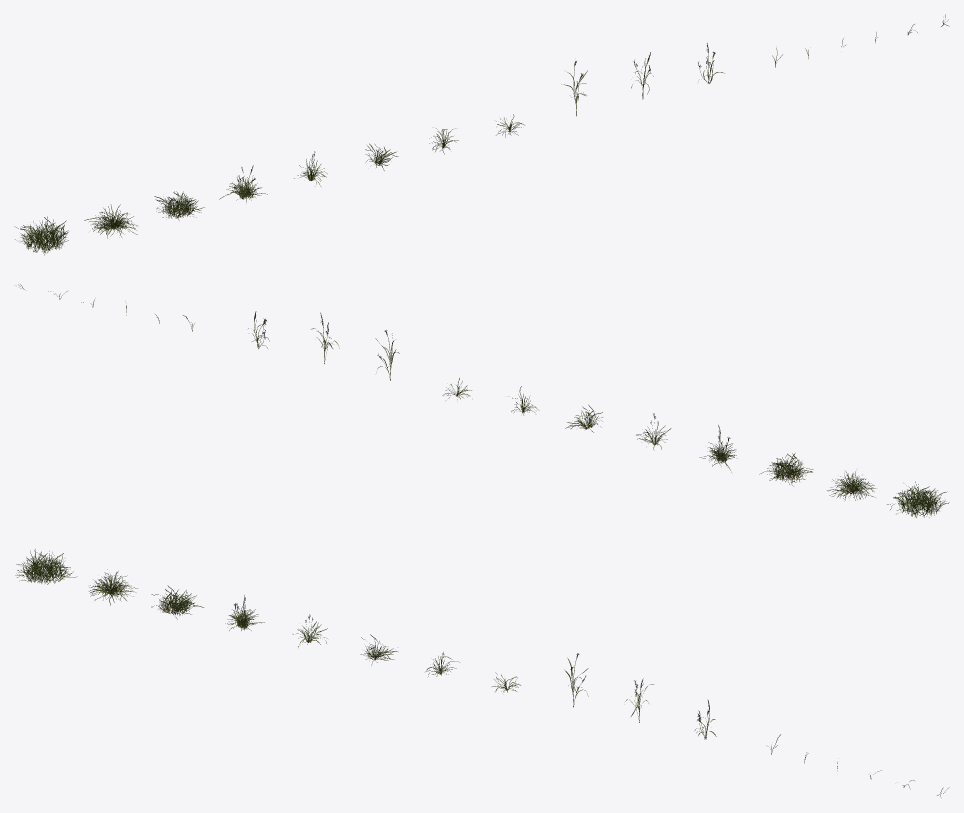
3 renders of one model, top to bottom at view 1: azimuth 30°, elevation 25°; view 2: azimuth 150°, elevation 25°; view 3: azimuth 330°, elevation 25°, orthographic.
Visible parts, largest first — view 1: grass_medium_01_large_a_LOD0, grass_medium_01_large_c_LOD0, grass_medium_01_large_b_LOD0; view 2: grass_medium_01_large_a_LOD0, grass_medium_01_large_c_LOD0, grass_medium_01_large_b_LOD0; view 3: grass_medium_01_large_a_LOD0, grass_medium_01_large_b_LOD0, grass_medium_01_large_c_LOD0.
Boxes of the visible parts, x1,y1,x2,y2 form: grass_medium_01_large_a_LOD0: (14, 216, 68, 255); grass_medium_01_large_c_LOD0: (154, 191, 204, 220); grass_medium_01_large_b_LOD0: (84, 204, 137, 238); grass_medium_01_large_a_LOD0: (887, 481, 949, 517); grass_medium_01_large_c_LOD0: (759, 453, 813, 486); grass_medium_01_large_b_LOD0: (827, 471, 876, 500); grass_medium_01_large_a_LOD0: (15, 549, 77, 584); grass_medium_01_large_b_LOD0: (89, 569, 137, 605); grass_medium_01_large_c_LOD0: (151, 585, 203, 619).
Bounding box in the file's own units: 5.6 × 0.3426 × 0.3266.
1 material, 1 textured.
